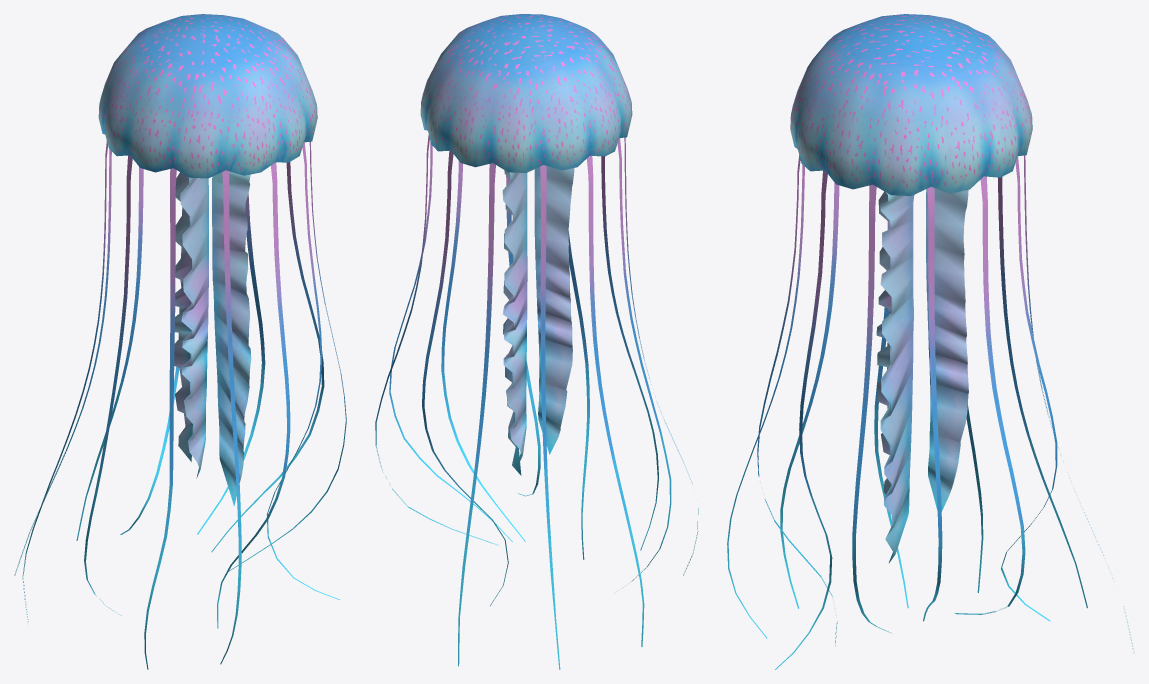
Rendered from jellyfish.fbx.
3 views of the same model, side by side, from view 1: azimuth 30°, elevation 25°; view 2: azimuth 150°, elevation 25°; view 3: azimuth 270°, elevation 25° (orthographic). The views are drawn at different scales.
Visible parts, largest first — view 1: node_id30; view 2: node_id30; view 3: node_id30.
Boxes of the visible parts, x1,y1,x2,y2 form: node_id30: [14, 14, 346, 669]; node_id30: [375, 14, 698, 669]; node_id30: [727, 14, 1133, 669].
Size of the model in its own units: 0.2596 by 0.512 by 0.2935.
1 material, 1 textured.
